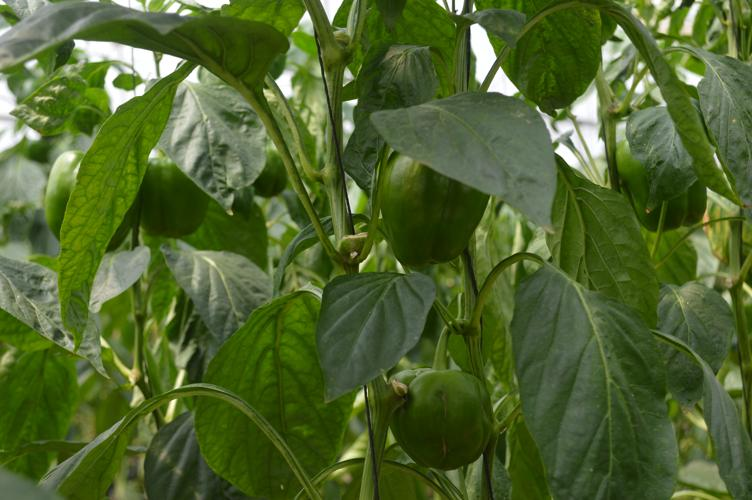BellPepper: (379, 154, 491, 273), (385, 371, 492, 469), (609, 140, 707, 228), (39, 153, 124, 250), (143, 157, 203, 240), (254, 149, 279, 194)
